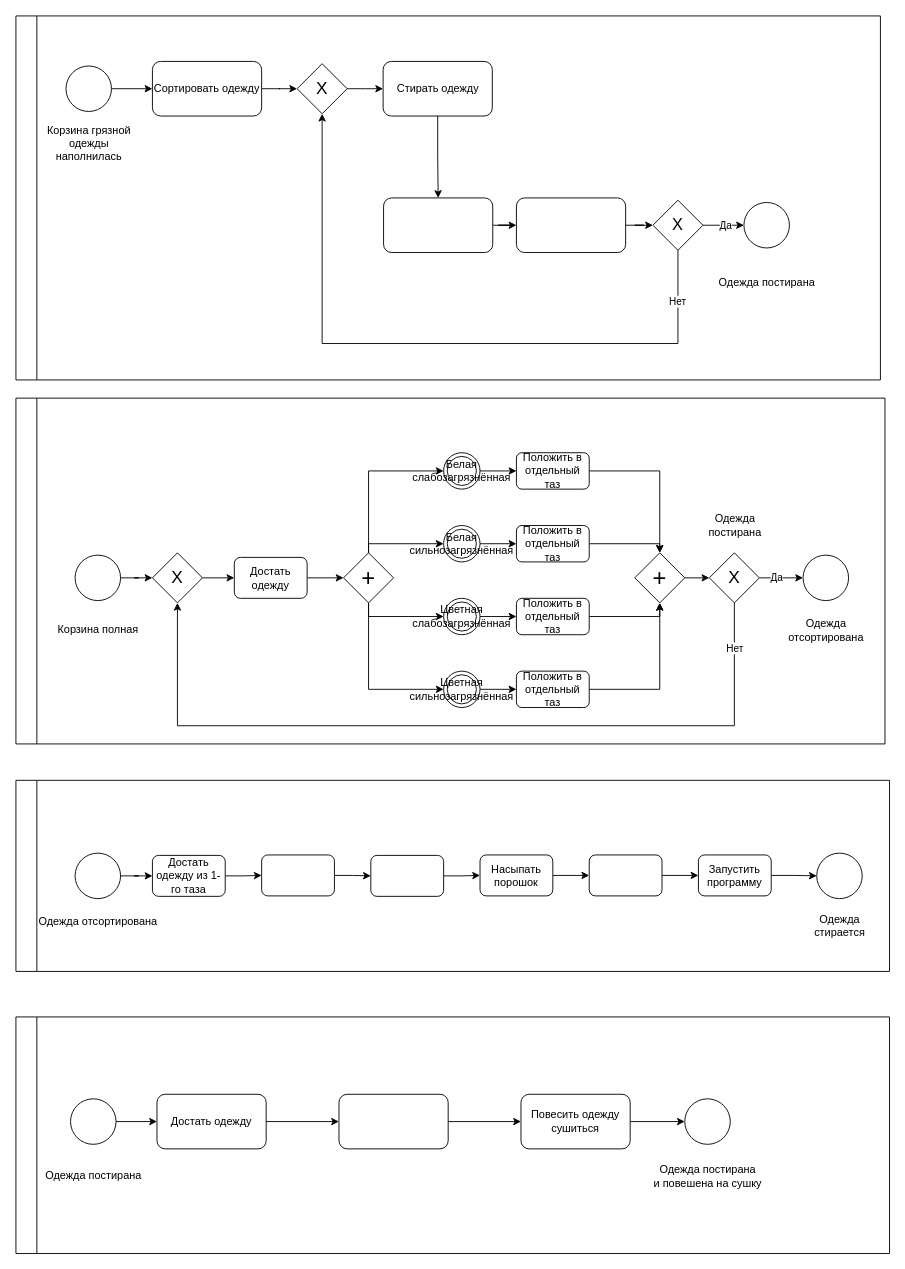
The diagram is 905 pixels wide and 1269 high, and some of its shapes have lost their labels. Each missing label, with the box of its shape:
Выбрать программу: (370, 854, 444, 896)
Достать бельё: (383, 197, 493, 253)
Достать одежду из стирки (Крошка Енот): (15, 1016, 890, 1254)
Налить кондиционер: (588, 854, 662, 896)
Организовать стирку (Мама Енот): (15, 15, 880, 380)
Отжать одежду: (338, 1093, 448, 1149)
Повесить бельё: (516, 197, 626, 253)
Положить одежду в барабан: (261, 854, 334, 896)
Сортировать одежду (Мама Енот): (15, 397, 885, 744)
Стирать одежду (Мама Енот): (15, 779, 890, 971)
